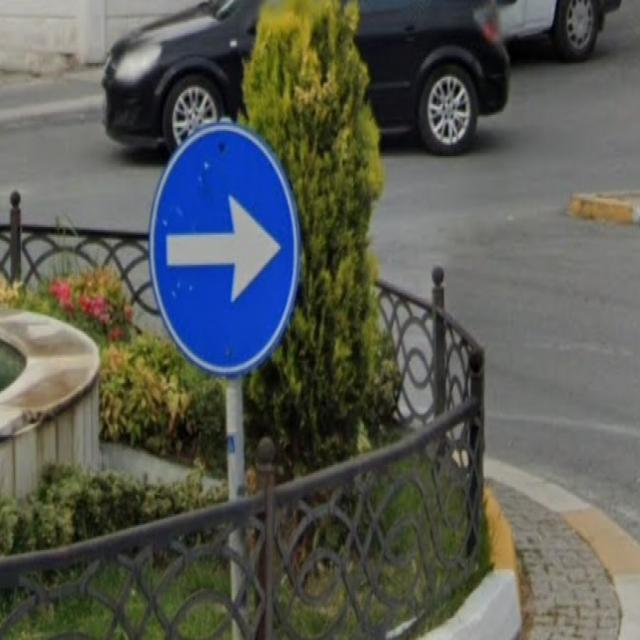Turn Right: (146, 124, 303, 382)
